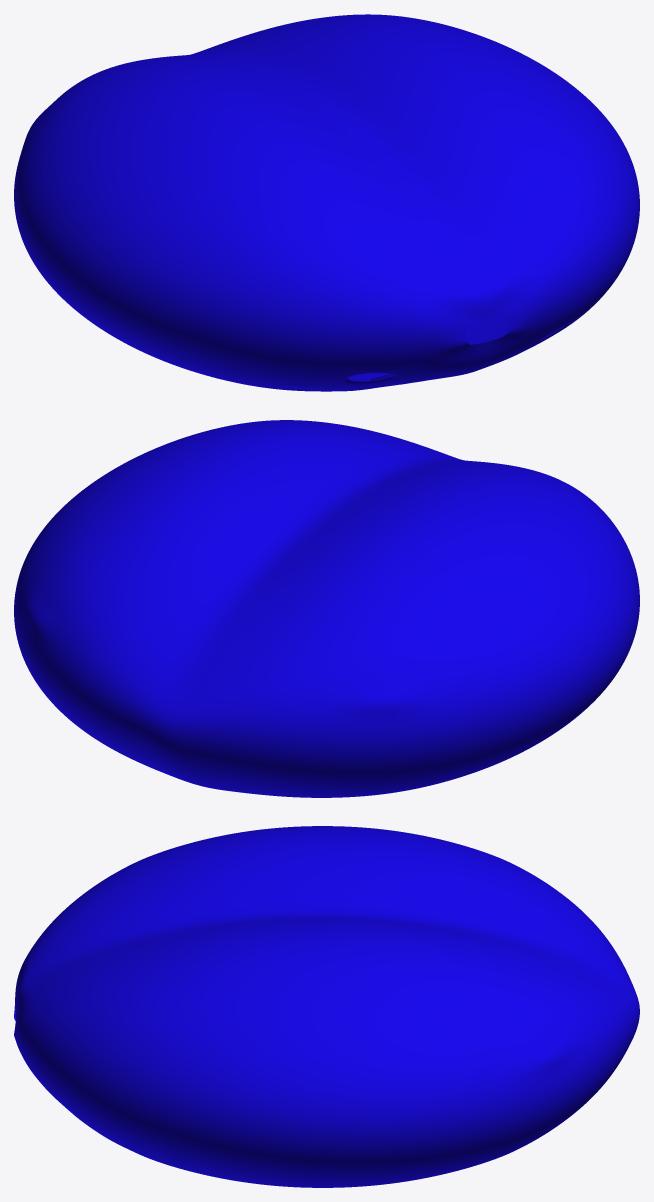
File: zone2-rhino-blue.gltf
3 renders of one model, top to bottom at view 1: azimuth 30°, elevation 25°; view 2: azimuth 150°, elevation 25°; view 3: azimuth 270°, elevation 25°, orthographic. The views are drawn at different scales.
Parts seen in each view (by area): view 1: TeteBas; view 2: TeteBas; view 3: TeteBas.
Part boxes in pixels (x1,y1,x2,y2): TeteBas: [14, 14, 639, 391]; TeteBas: [14, 420, 639, 797]; TeteBas: [14, 826, 639, 1187].
Bounding box in the file's own units: 3.36 × 1.53 × 3.52.
